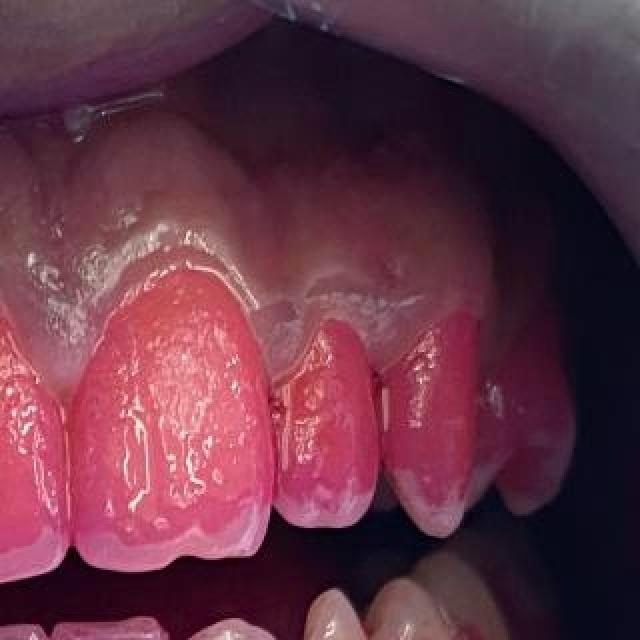cavities: (348, 632, 416, 640)
